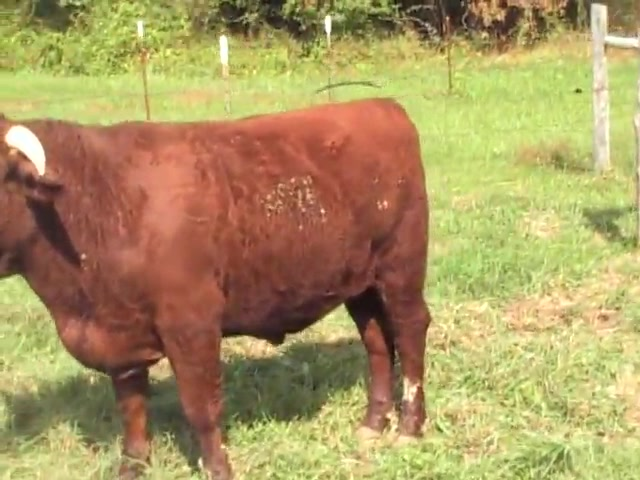cow: (1, 98, 434, 480)
